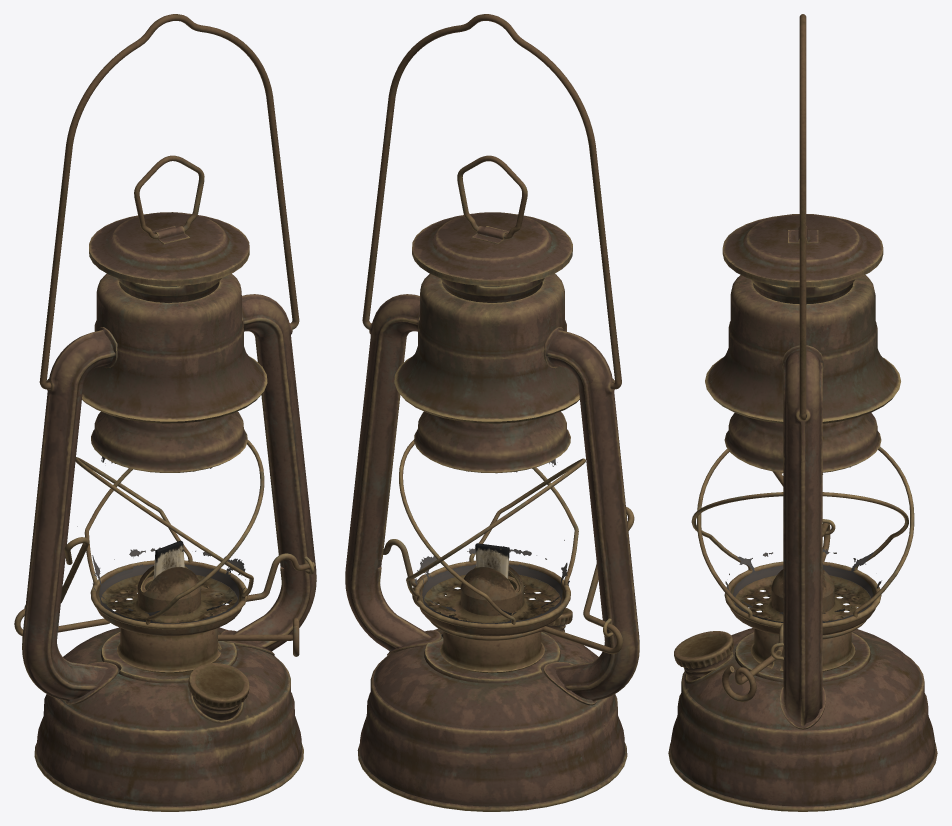
File: Lantern_01_2k.fbx
The picture shows the model from 3 angles, left to right: view 1: azimuth 30°, elevation 25°; view 2: azimuth 150°, elevation 25°; view 3: azimuth 270°, elevation 25°; orthographic projection.
Parts seen in each view (by area): view 1: Lantern_01, Lantern_01_glass; view 2: Lantern_01, Lantern_01_glass; view 3: Lantern_01, Lantern_01_glass.
Boxes of the visible parts, <box> form: Lantern_01: <box>14,14,316,811</box>; Lantern_01_glass: <box>77,456,245,623</box>; Lantern_01: <box>345,14,639,811</box>; Lantern_01_glass: <box>414,459,569,623</box>; Lantern_01: <box>668,14,937,811</box>; Lantern_01_glass: <box>725,467,881,622</box>.
Size of the model in its own units: 12.21 by 29.42 by 9.72.
